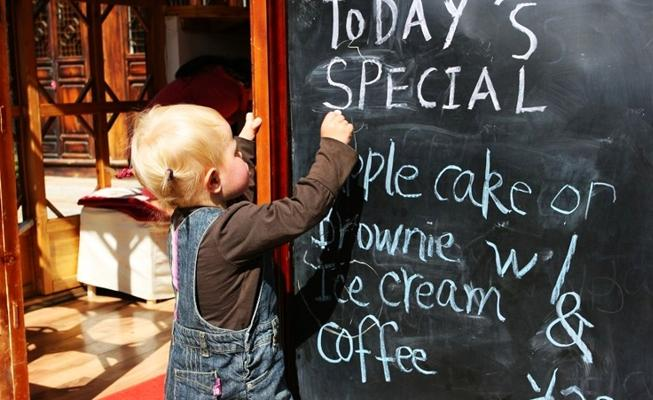person: (130, 104, 359, 400)
